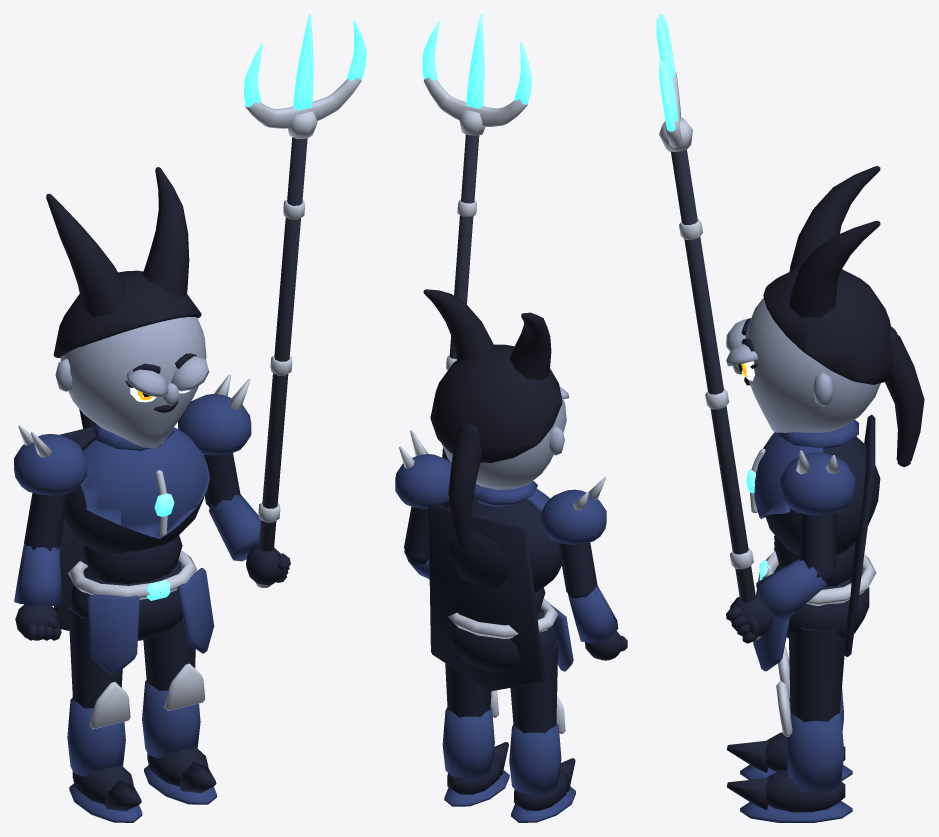
The model's file is npc_proxima_midnight.glb.
The picture shows the model from 3 angles, left to right: view 1: azimuth 30°, elevation 25°; view 2: azimuth 150°, elevation 25°; view 3: azimuth 270°, elevation 25°; orthographic projection. The views are drawn at different scales.
Parts seen in each view (by area): view 1: Body, Head, ArmR, LegL, LegR, ArmL; view 2: Body, Head, ArmR, LegL, ArmL, LegR; view 3: Head, ArmR, Body, LegR, LegL.
Boxes of the visible parts, x1=… form: Body: x1=54, y1=424, x2=214, y2=674; Head: x1=46, y1=167, x2=209, y2=447; ArmR: x1=178, y1=14, x2=366, y2=587; LegL: x1=67, y1=606, x2=142, y2=822; LegR: x1=142, y1=618, x2=216, y2=804; ArmL: x1=14, y1=425, x2=87, y2=640; Body: x1=428, y1=481, x2=573, y2=691; Head: x1=423, y1=289, x2=569, y2=547; ArmR: x1=395, y1=14, x2=531, y2=579; LegL: x1=509, y1=643, x2=575, y2=822; ArmL: x1=541, y1=477, x2=627, y2=660; LegR: x1=442, y1=663, x2=509, y2=806; Head: x1=726, y1=166, x2=924, y2=466; ArmR: x1=656, y1=14, x2=855, y2=643; Body: x1=746, y1=414, x2=880, y2=671; LegR: x1=727, y1=627, x2=852, y2=822; LegL: x1=727, y1=646, x2=852, y2=781.
Size of the model in its own units: 0.6257 by 1.69 by 0.497.
